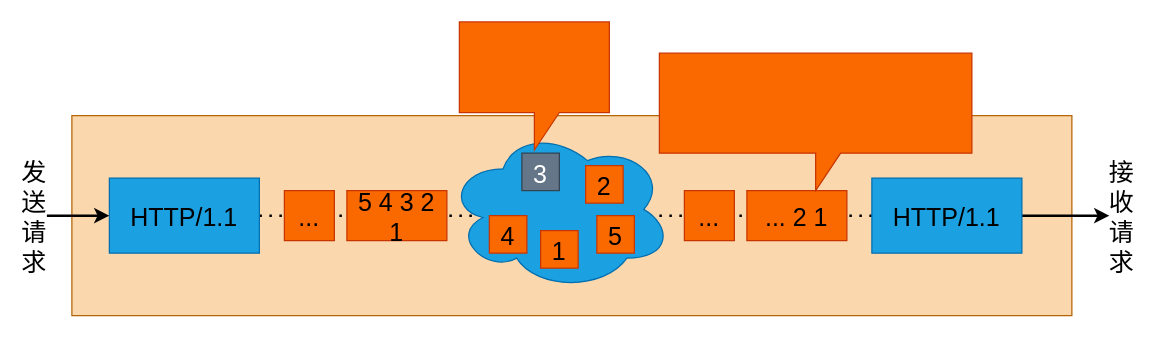
Image size: 1155x338. Some labels were removed from this diagram. Each missing label, with the box of its shape:
HTTP/1.1不能处理3之后的数据包，需要等待3的重传: (658, 52, 972, 191)
数据3丢包了: (458, 21, 609, 150)
